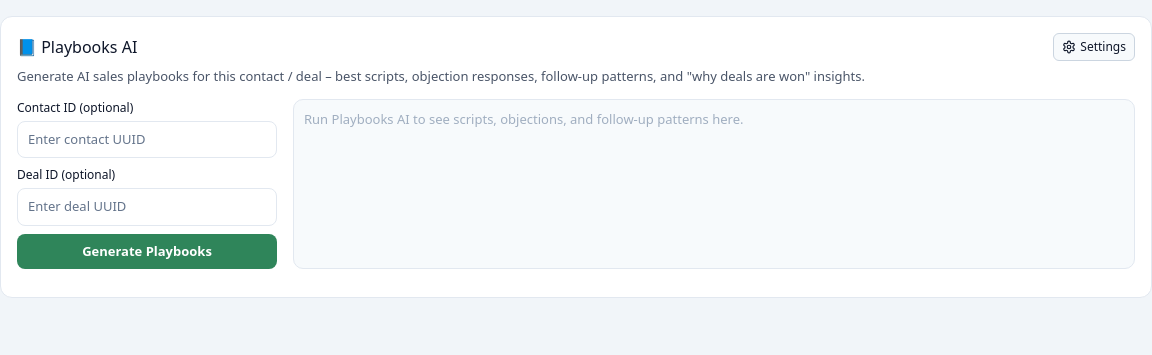
Test case: PlaybooksPanel › Playbook Generation › should handle generation errors gracefully
The width and height of the screenshot is (1152, 355).
Type "contact-456" into the field with placeholder "Enter contact UUID" at (147, 139), box left=17, top=120, right=277, bottom=158
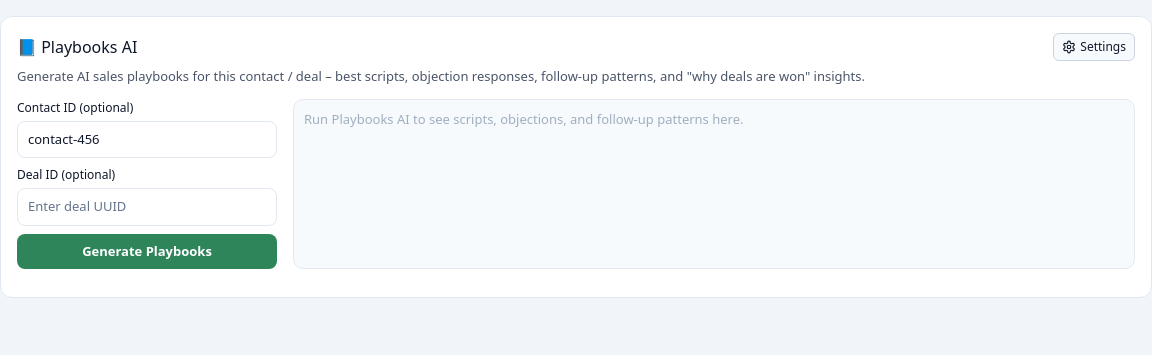
Click the button "Generate Playbooks" at (147, 251), box left=17, top=234, right=277, bottom=269
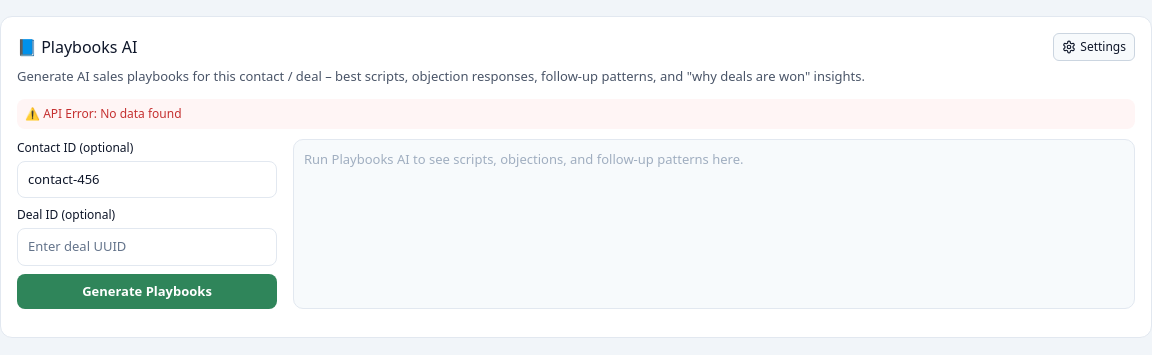
Result: the text "⚠️ API Error: No data found" is shown at left=17, top=98, right=1135, bottom=128
